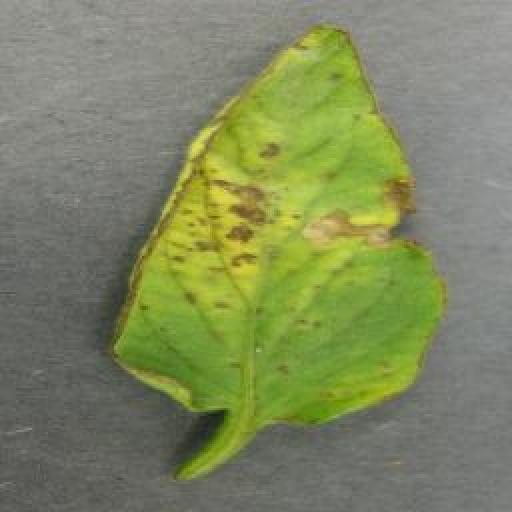Bacterial Spot: (111, 10, 449, 426)
